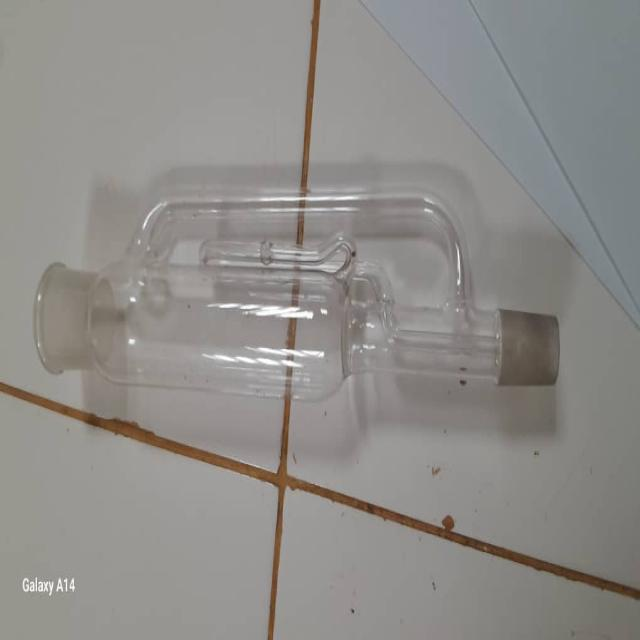Soxhlet: (24, 191, 566, 406)
